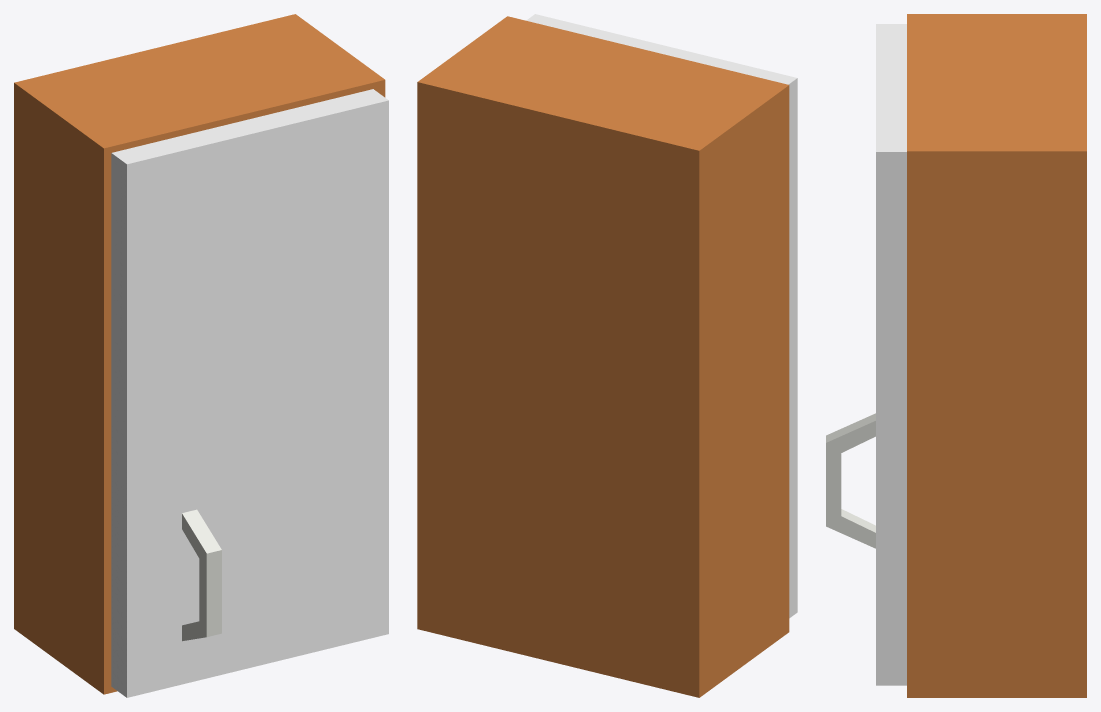
File: Cupboard_1_4.fbx
3 views of the same model, side by side, from view 1: azimuth 30°, elevation 25°; view 2: azimuth 150°, elevation 25°; view 3: azimuth 270°, elevation 25° (orthographic).
Visible parts, largest first — view 1: polySurface1495; view 2: polySurface1495; view 3: polySurface1495.
Part boxes in pixels (x1,y1,x2,y2): polySurface1495: [14, 14, 388, 697]; polySurface1495: [417, 14, 797, 697]; polySurface1495: [826, 14, 1086, 697].
Bounding box in the file's own units: 0.6303 × 1.17 × 0.5055.
1 material, 1 textured.
